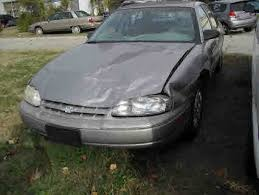Broken-glass: (121, 90, 167, 118)
Dent: (170, 83, 190, 108)
Smashed: (51, 46, 174, 110)
